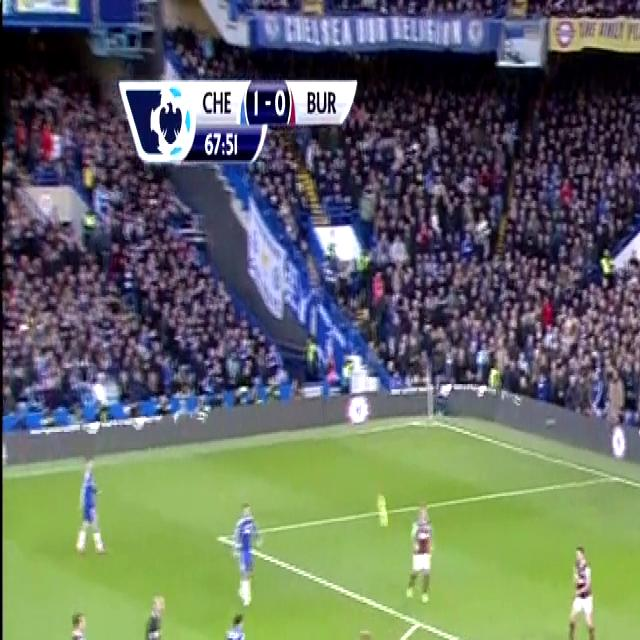referee: (130, 583, 171, 640), (371, 481, 392, 537)
soccer-player: (220, 489, 262, 611), (560, 526, 602, 640), (403, 492, 441, 616), (67, 442, 104, 562), (62, 601, 107, 640), (220, 604, 253, 640), (342, 620, 388, 640)
